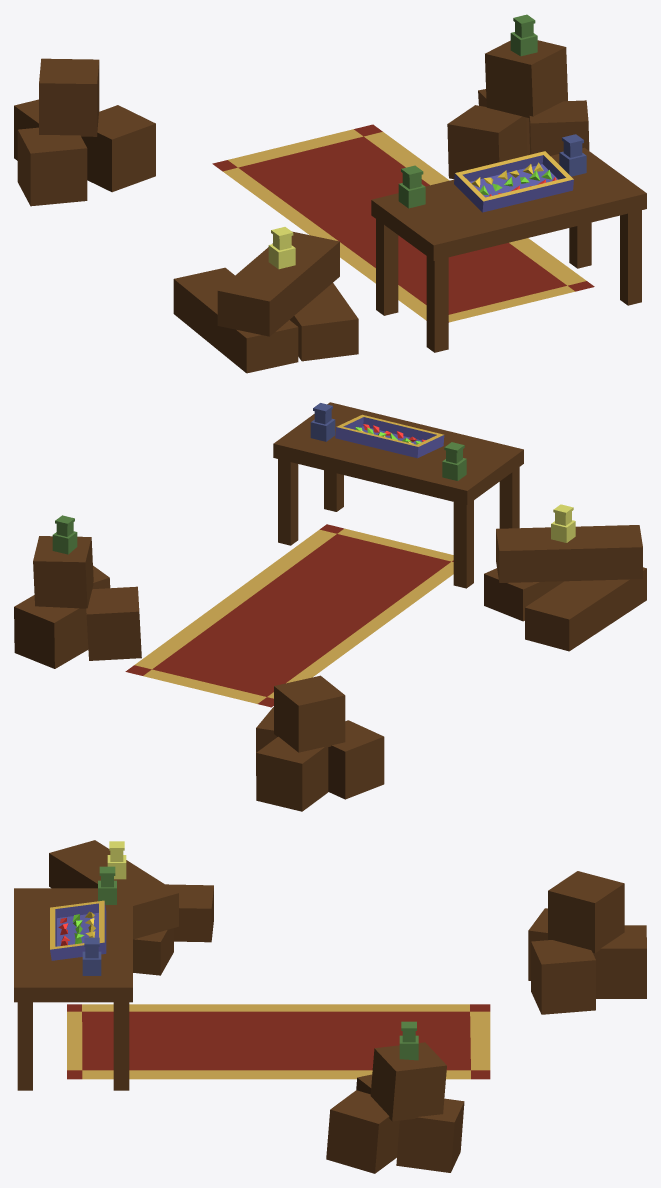
The model's file is Jeweler.fbx.
The picture shows the model from 3 angles, top to bottom: view 1: azimuth 30°, elevation 25°; view 2: azimuth 150°, elevation 25°; view 3: azimuth 270°, elevation 25°; orthographic projection. The views are drawn at different scales.
Parts seen in each view (by area): view 1: Plane, Cube.003, Cube.002, Cube.001, Cube.015, Cube.011, Cube.013, Cube.014, Cube.018, Cube.009, Cube, Cube.016 (+9 smaller); view 2: Plane, Cube.003, Cube.002, Cube.001, Cube.014, Cube.012, Cube.017, Cube.018, Cube.015, Cube.011, Cube.009, Cube (+8 smaller); view 3: Plane, Cube.003, Cube.002, Cube.014, Cube.015, Cube.016, Cube.013, Cube.017, Cube.012, Cube.009, Cube.001, Cube (+7 smaller).
Part boxes in pixels (x1,y1,x2,y2): Plane: [212, 124, 594, 322]; Cube.003: [371, 147, 646, 260]; Cube.002: [217, 231, 339, 336]; Cube.001: [173, 267, 298, 373]; Cube.015: [485, 40, 567, 117]; Cube.011: [17, 127, 87, 206]; Cube.013: [81, 105, 155, 192]; Cube.014: [39, 58, 99, 136]; Cube.018: [447, 105, 527, 178]; Cube.009: [454, 151, 573, 212]; Cube: [290, 283, 358, 361]; Cube.016: [529, 100, 589, 155]; Plane: [125, 524, 453, 707]; Cube.003: [273, 402, 523, 504]; Cube.002: [496, 525, 642, 582]; Cube.001: [525, 567, 646, 651]; Cube.014: [274, 675, 345, 752]; Cube.012: [256, 736, 328, 811]; Cube.017: [14, 595, 88, 668]; Cube.018: [86, 586, 141, 660]; Cube.015: [33, 536, 93, 608]; Cube.011: [328, 720, 384, 799]; Cube.009: [335, 414, 444, 458]; Cube: [484, 568, 563, 621]; Plane: [67, 1004, 490, 1079]; Cube.003: [14, 888, 132, 1002]; Cube.002: [49, 840, 178, 939]; Cube.014: [548, 871, 624, 953]; Cube.015: [370, 1042, 446, 1121]; Cube.016: [326, 1090, 399, 1173]; Cube.013: [531, 940, 595, 1014]; Cube.017: [396, 1098, 464, 1172]; Cube.012: [593, 925, 646, 998]; Cube.009: [50, 900, 106, 960]; Cube.001: [165, 884, 213, 942]; Cube: [133, 928, 173, 975].
Bounding box in the file's own units: 2056 × 651 × 2283.
